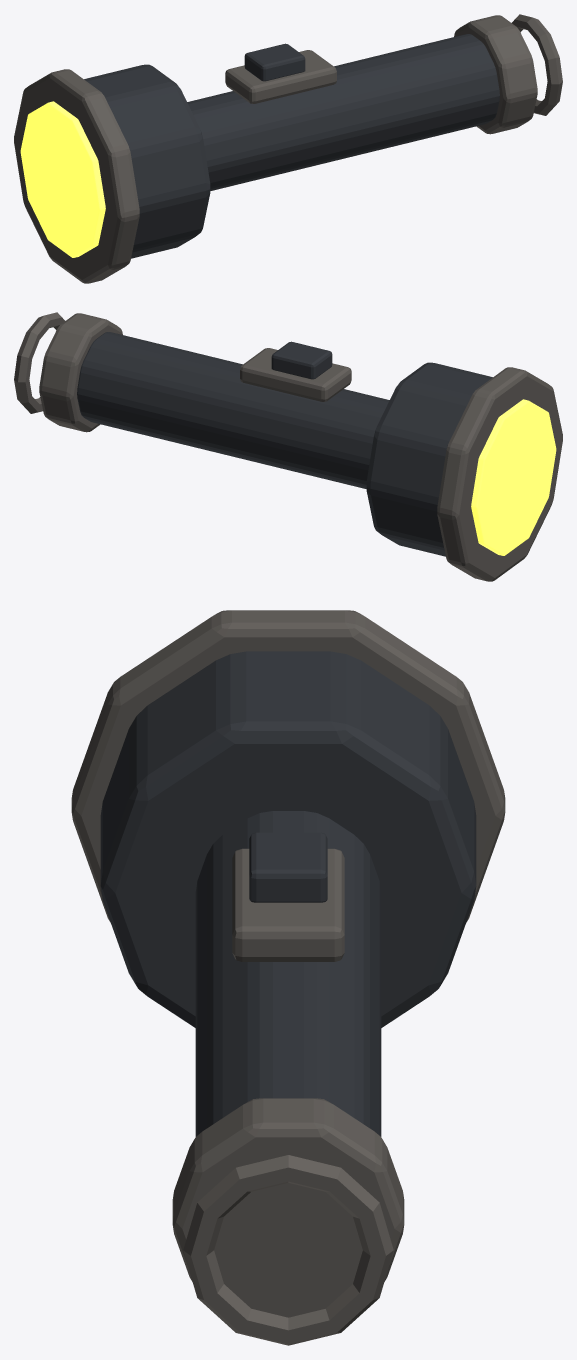
File: SM_Linterna.fbx
The picture shows the model from 3 angles, top to bottom: view 1: azimuth 30°, elevation 25°; view 2: azimuth 150°, elevation 25°; view 3: azimuth 270°, elevation 25°; orthographic projection. The views are drawn at different scales.
Visible parts, largest first — view 1: Flashlight_Body, Flashlight_Head, Flashlight_Bevel, Flashlight_Lens, Flashlight_Rear, Flashlight_SwitchBase, Flashlight_RearLoop, Flashlight_Switch; view 2: Flashlight_Body, Flashlight_Head, Flashlight_Bevel, Flashlight_Lens, Flashlight_Rear, Flashlight_SwitchBase, Flashlight_RearLoop, Flashlight_Switch; view 3: Flashlight_Head, Flashlight_Body, Flashlight_Rear, Flashlight_Bevel, Flashlight_RearLoop, Flashlight_SwitchBase, Flashlight_Switch.
Part boxes in pixels (<box>): Flashlight_Body: <box>187,34,499,190</box>; Flashlight_Head: <box>84,64,210,258</box>; Flashlight_Bevel: <box>14,69,139,283</box>; Flashlight_Lens: <box>20,101,105,257</box>; Flashlight_Rear: <box>454,15,537,134</box>; Flashlight_SwitchBase: <box>225,50,336,103</box>; Flashlight_RearLoop: <box>512,14,562,115</box>; Flashlight_Switch: <box>244,43,305,81</box>; Flashlight_Body: <box>77,332,389,488</box>; Flashlight_Head: <box>366,362,492,556</box>; Flashlight_Bevel: <box>437,367,562,581</box>; Flashlight_Lens: <box>471,399,556,555</box>; Flashlight_Rear: <box>39,313,122,432</box>; Flashlight_SwitchBase: <box>240,348,351,401</box>; Flashlight_RearLoop: <box>14,312,64,413</box>; Flashlight_Switch: <box>271,341,332,379</box>; Flashlight_Head: <box>100,651,476,1027</box>; Flashlight_Body: <box>195,811,381,1136</box>; Flashlight_Rear: <box>172,1098,404,1317</box>; Flashlight_Bevel: <box>71,610,505,922</box>; Flashlight_RearLoop: <box>183,1155,393,1345</box>; Flashlight_SwitchBase: <box>232,848,344,961</box>; Flashlight_Switch: <box>249,832,327,902</box>.
Bounding box in the file's own units: 3.94 × 1.48 × 1.55.
